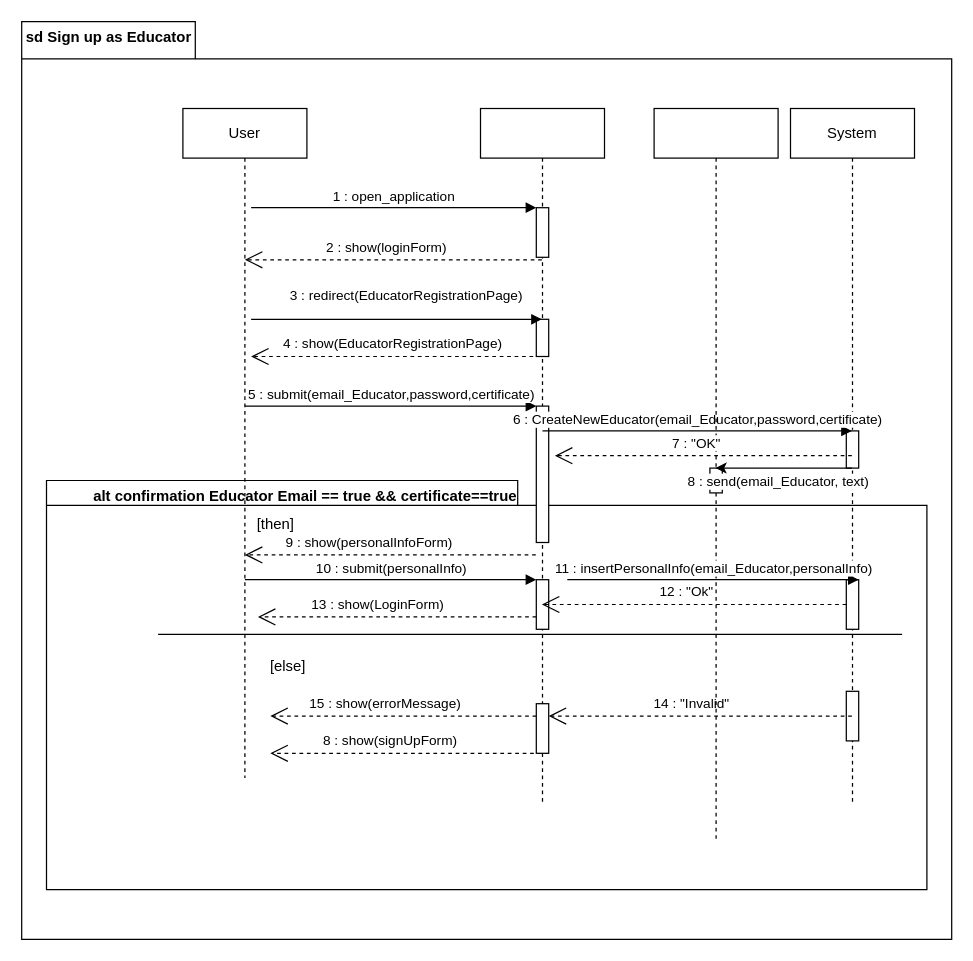
This 973x961 diagram has some shape labels left out. The centre of each missing label's shape, as x and y in pixels:
CKB Web App: the point at 541,455
Email Provider: the point at 715,473
